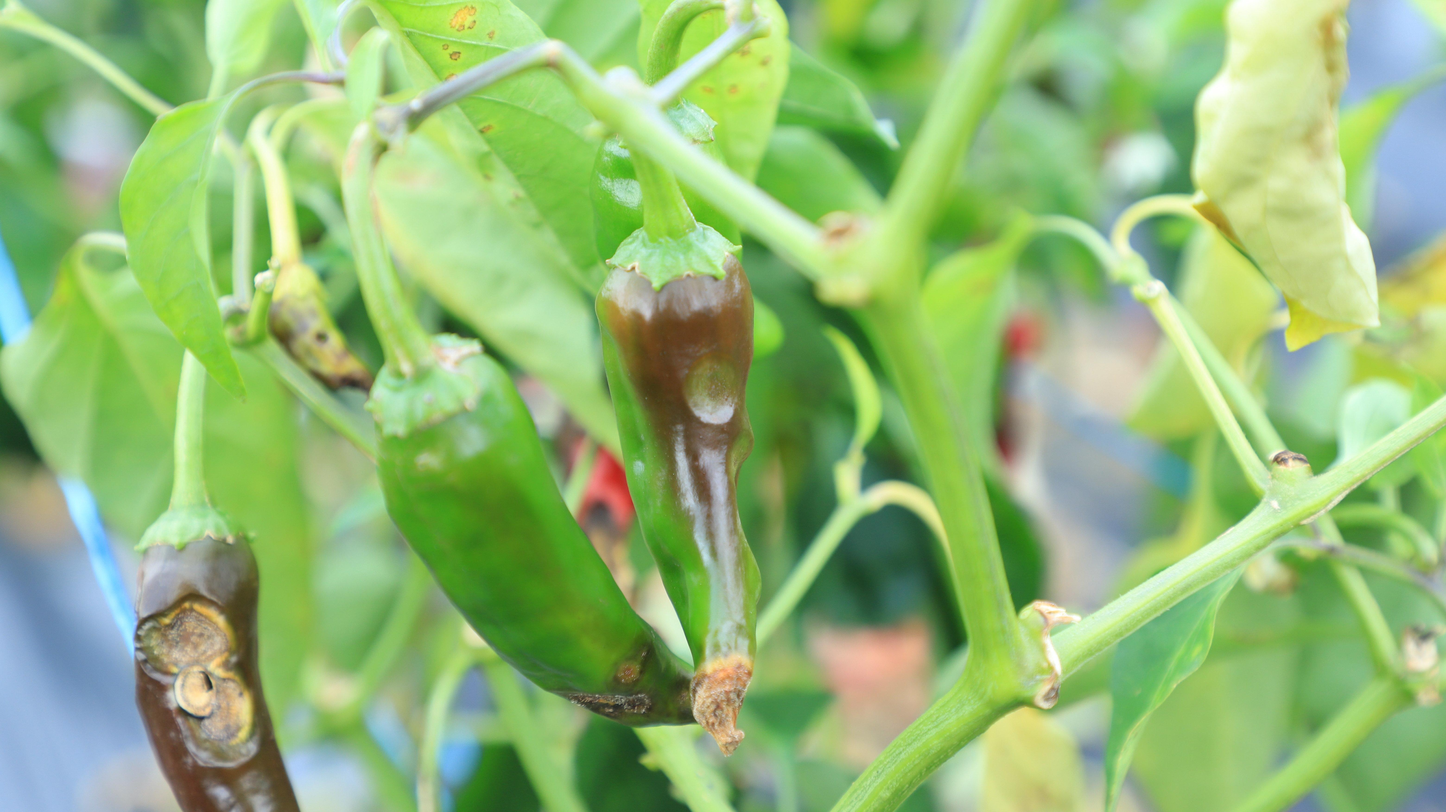Busuk Buah Antraknosa: (368, 334, 709, 733), (591, 220, 765, 757), (130, 504, 315, 812)
